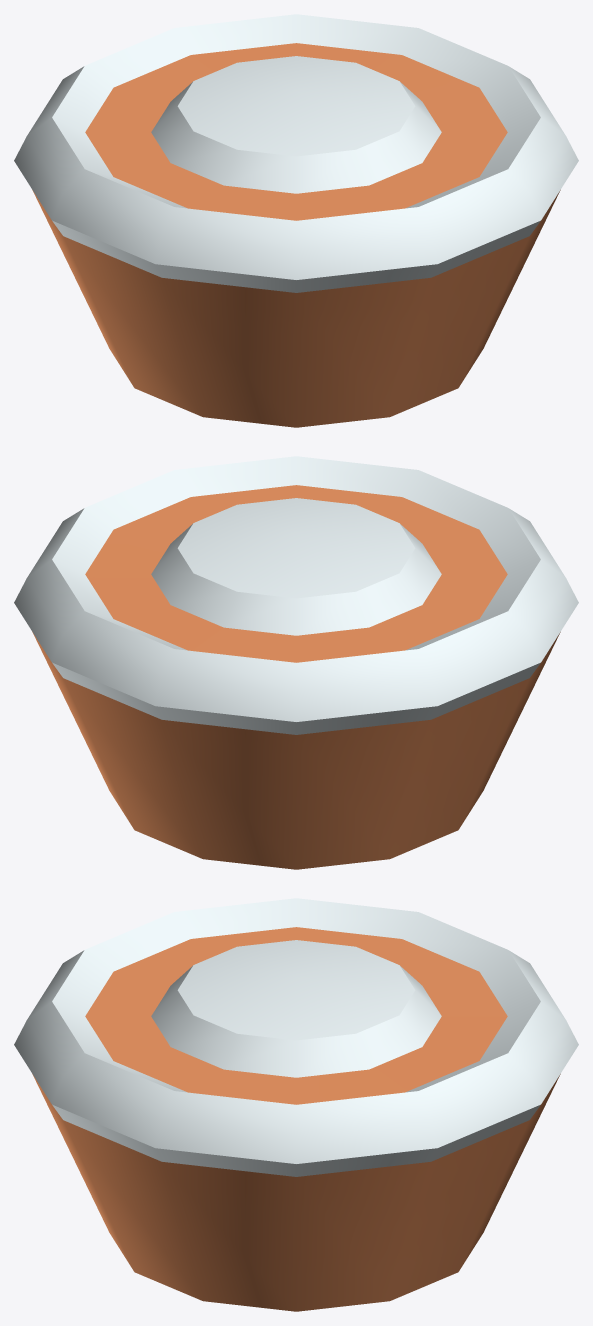
The model's file is Food_01.fbx.
3 views of the same model, one above another, from view 1: azimuth 30°, elevation 25°; view 2: azimuth 150°, elevation 25°; view 3: azimuth 270°, elevation 25° (orthographic).
Parts seen in each view (by area): view 1: Cylinder; view 2: Cylinder; view 3: Cylinder.
Part boxes in pixels (box(x1,y1,x2,y2)): Cylinder: box(14, 14, 578, 427); Cylinder: box(14, 456, 578, 869); Cylinder: box(14, 898, 578, 1311).
Bounding box in the file's own units: 9.06 × 4.54 × 9.06.
